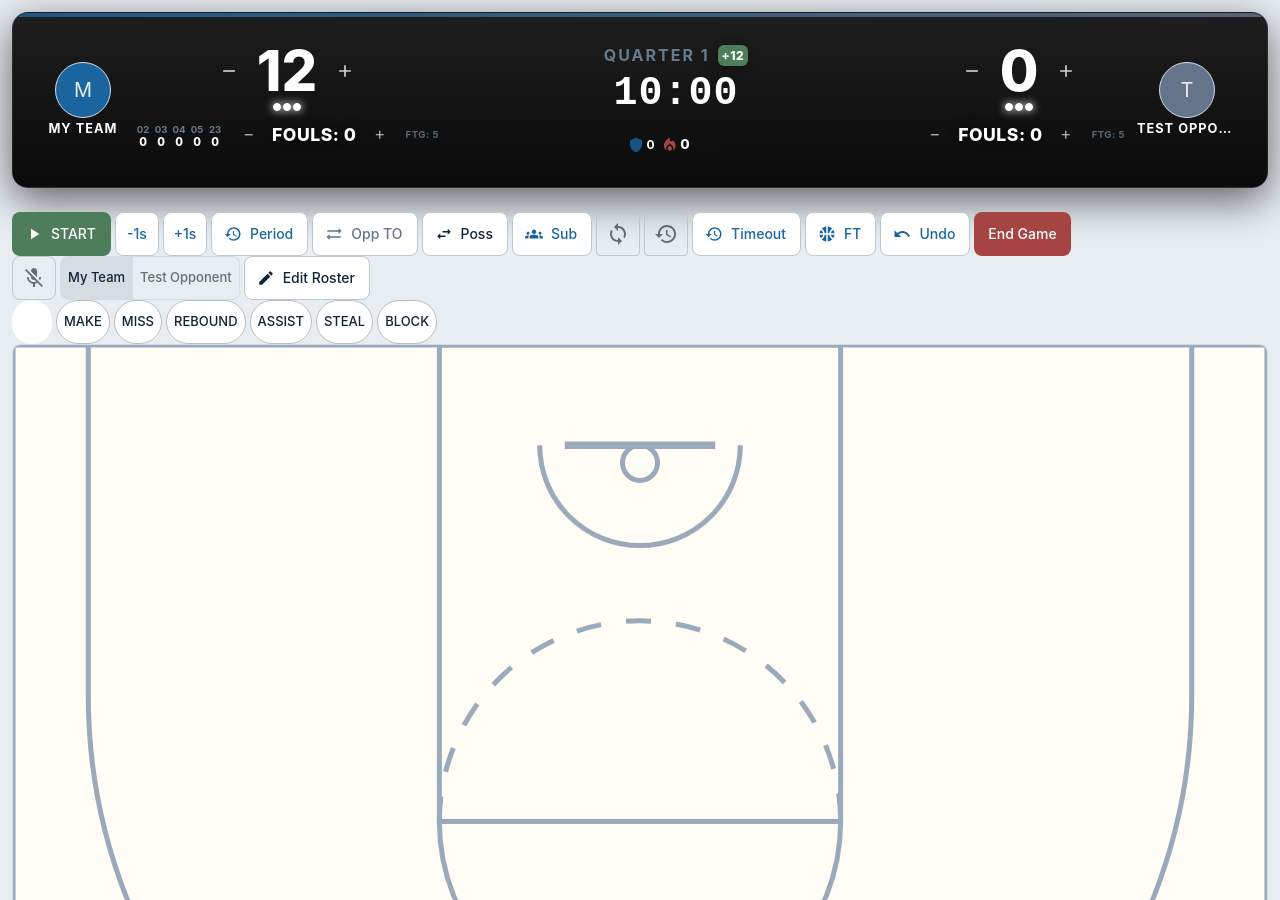
Test: GameMode Component › handles quick sub in (to empty slot)
This screenshot has width=1280, height=900.
Click the button with aria-label "manage lineup substitutions". click: click(552, 234)
box: [512,212,592,256]
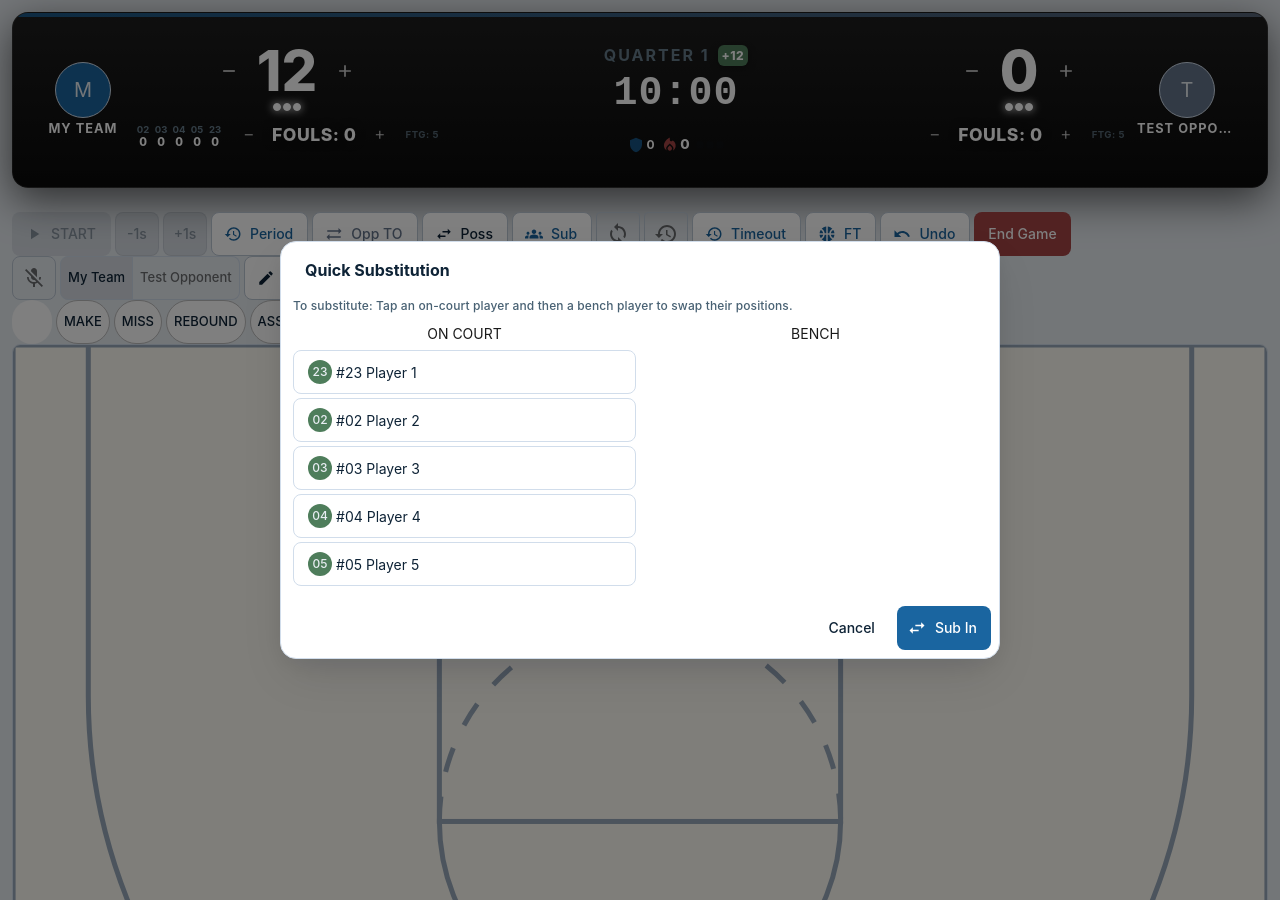
Check: the heading "Quick Substitution" is shown, box [305,260,450,280]
Check: the heading "ON COURT" is shown, box [427,325,502,342]
Check: the text "bench" is shown, box [293,298,793,313]
